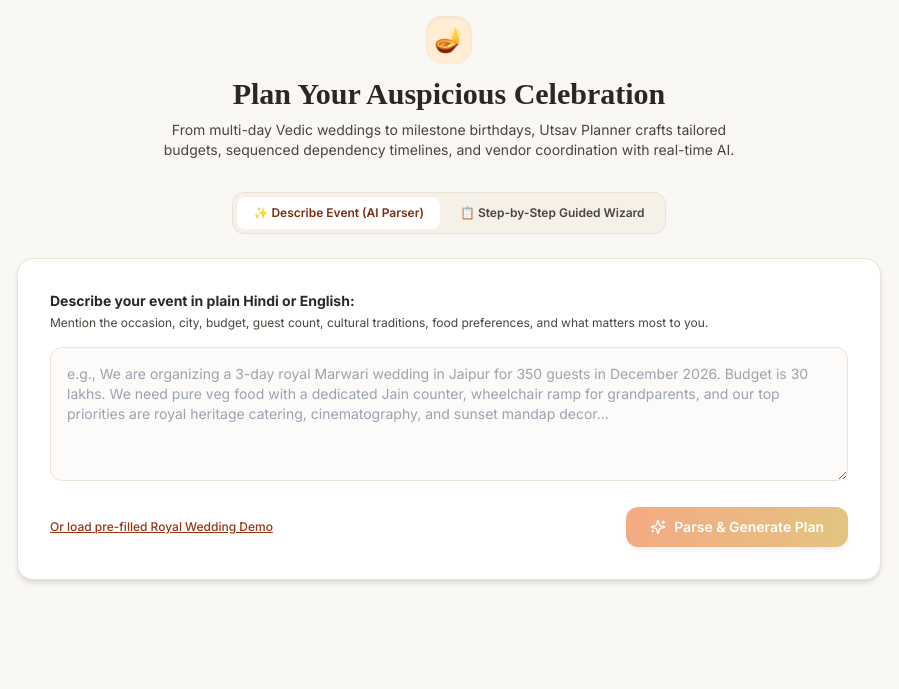
OnboardingWizard Component › displays a validation error when free-text description is too short (< 10 chars)
Replace the text in the text box labelled "Describe your event in plain Hindi or English:" with "short": x=449, y=414 [50, 347, 848, 481]
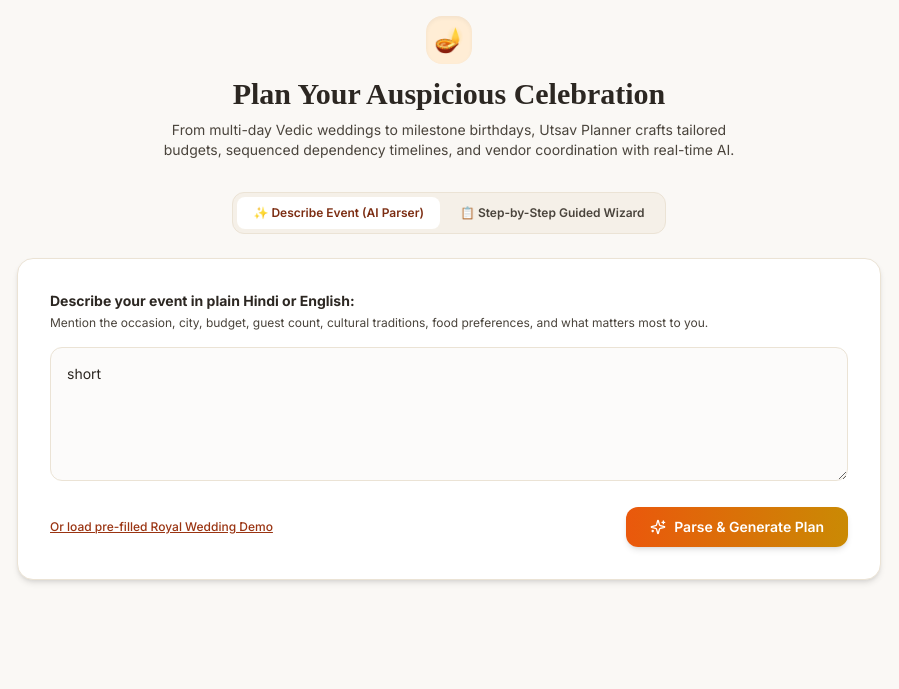
Click the button "Parse & Generate Plan": x=737, y=527 [626, 507, 848, 547]
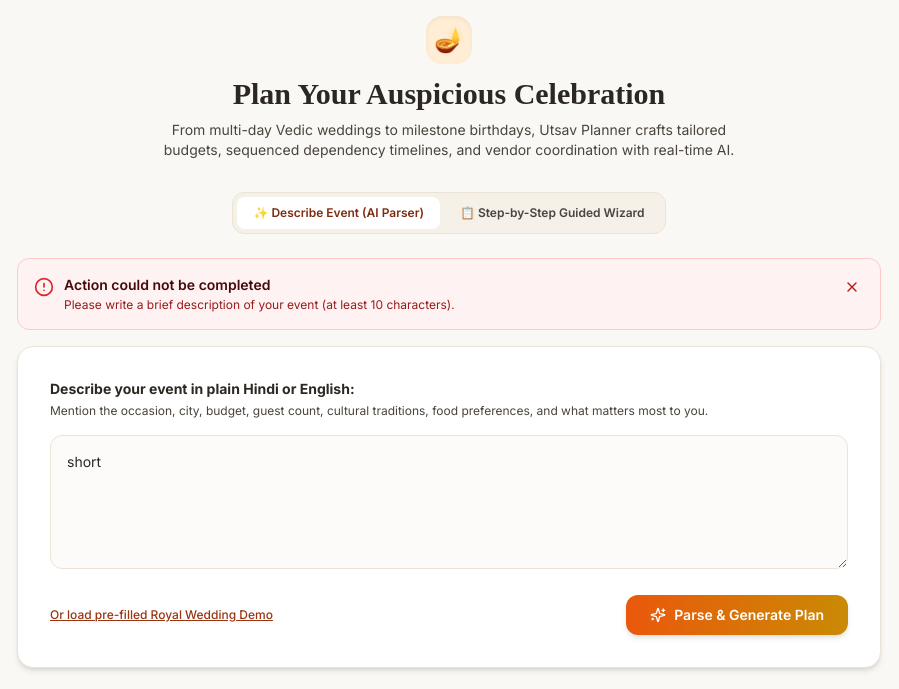
Now the text "Please write a brief description of your event (at least 10 characters)." is shown, box [64, 297, 455, 313]
